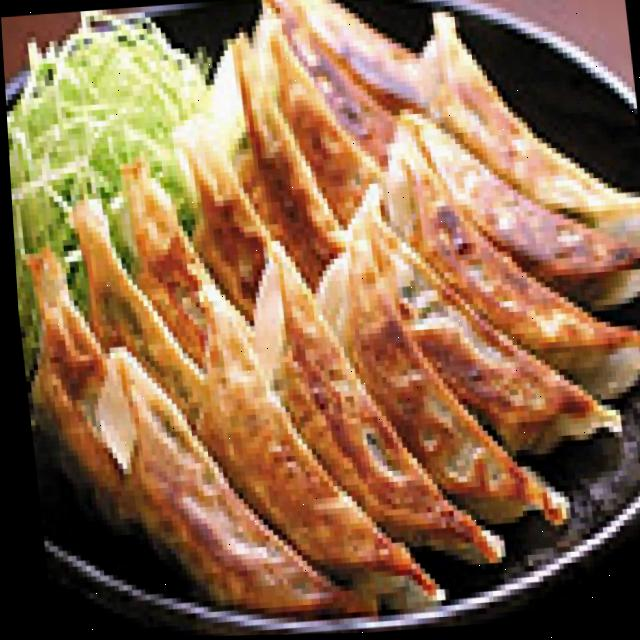带馅早点: (0, 0, 640, 634)
